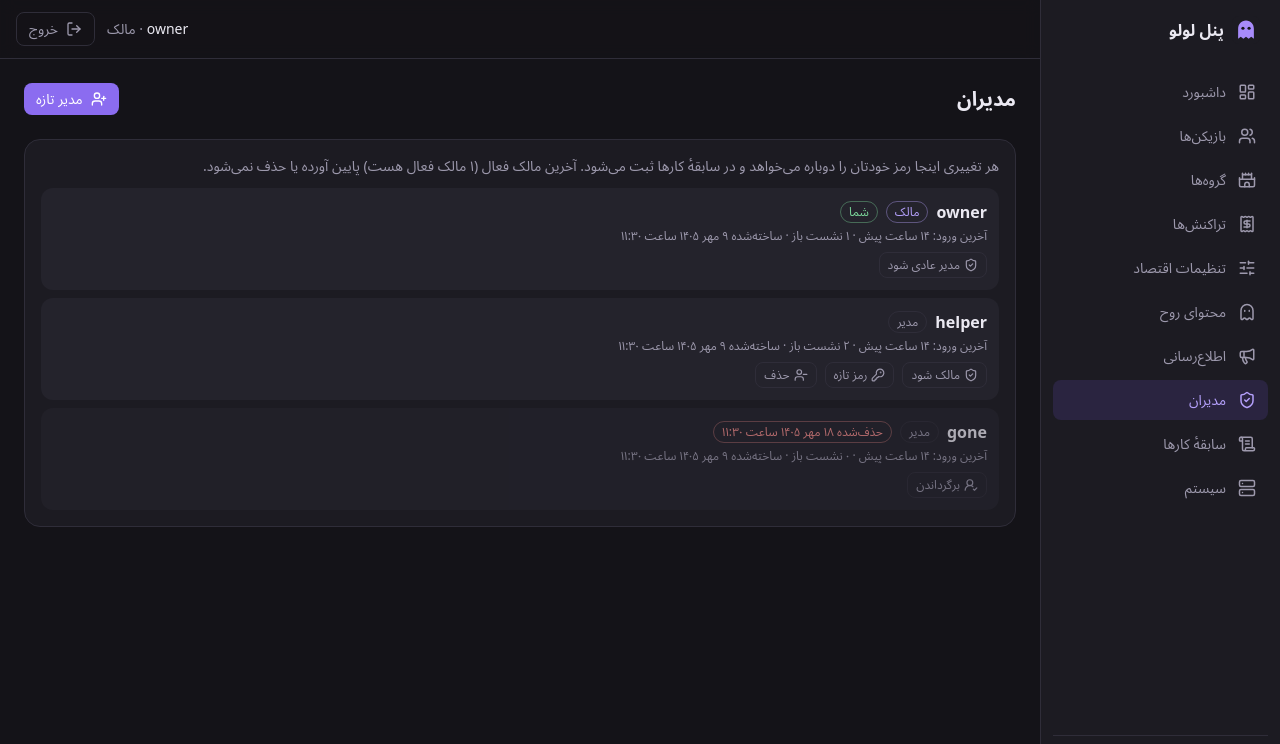
Test: admins page › adds an admin with a generated password
The image size is (1280, 744).
Click the button "مدیر تازه" at (71, 99), box [24,83,119,115]
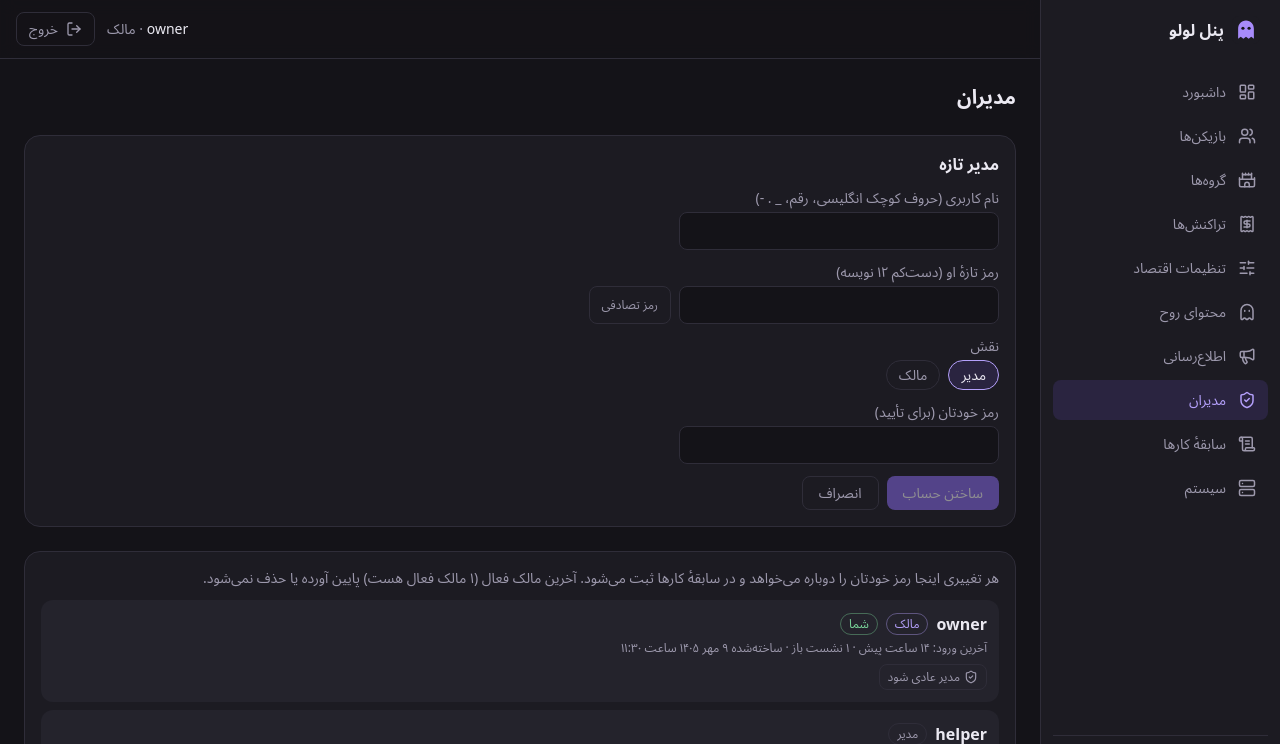
Type "Scribe" into the field labelled "نام کاربری (حروف کوچک انگلیسی، رقم، _ . -)" at (839, 231), box [679,212,999,250]
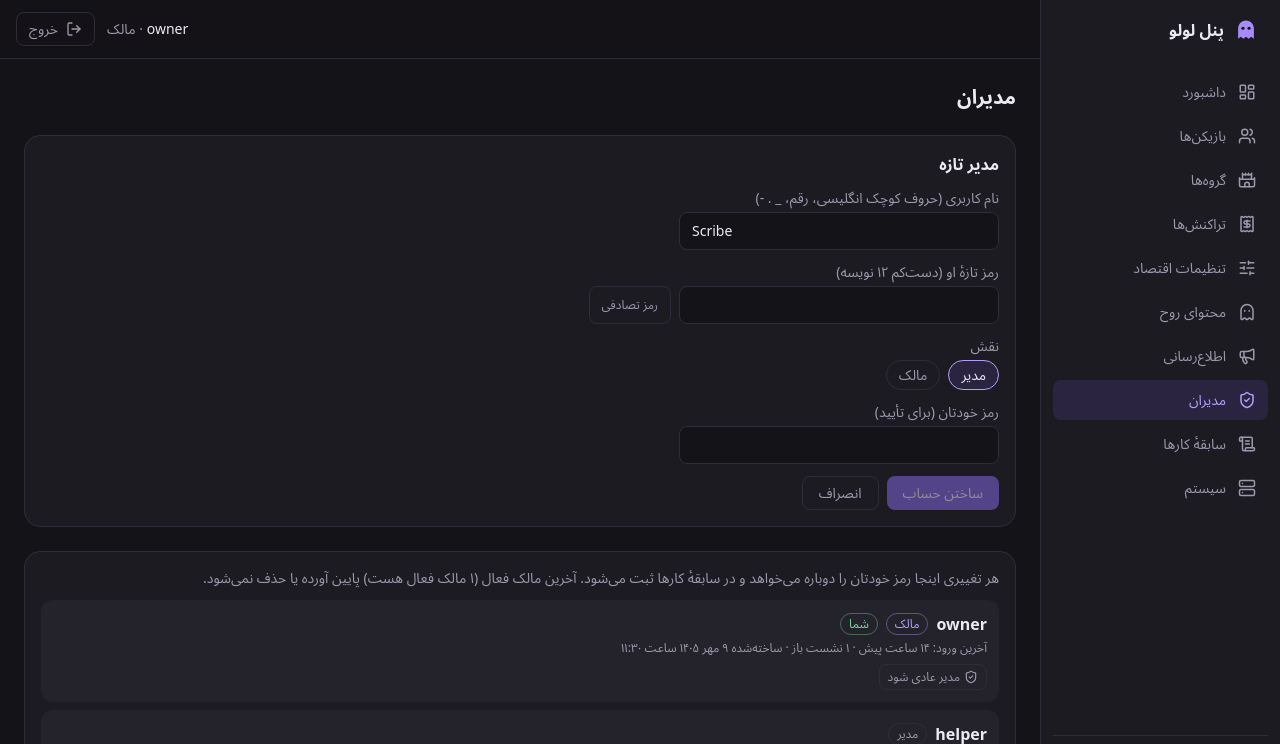
Click the button "رمز تصادفی" at (630, 305), box [588,286,671,324]
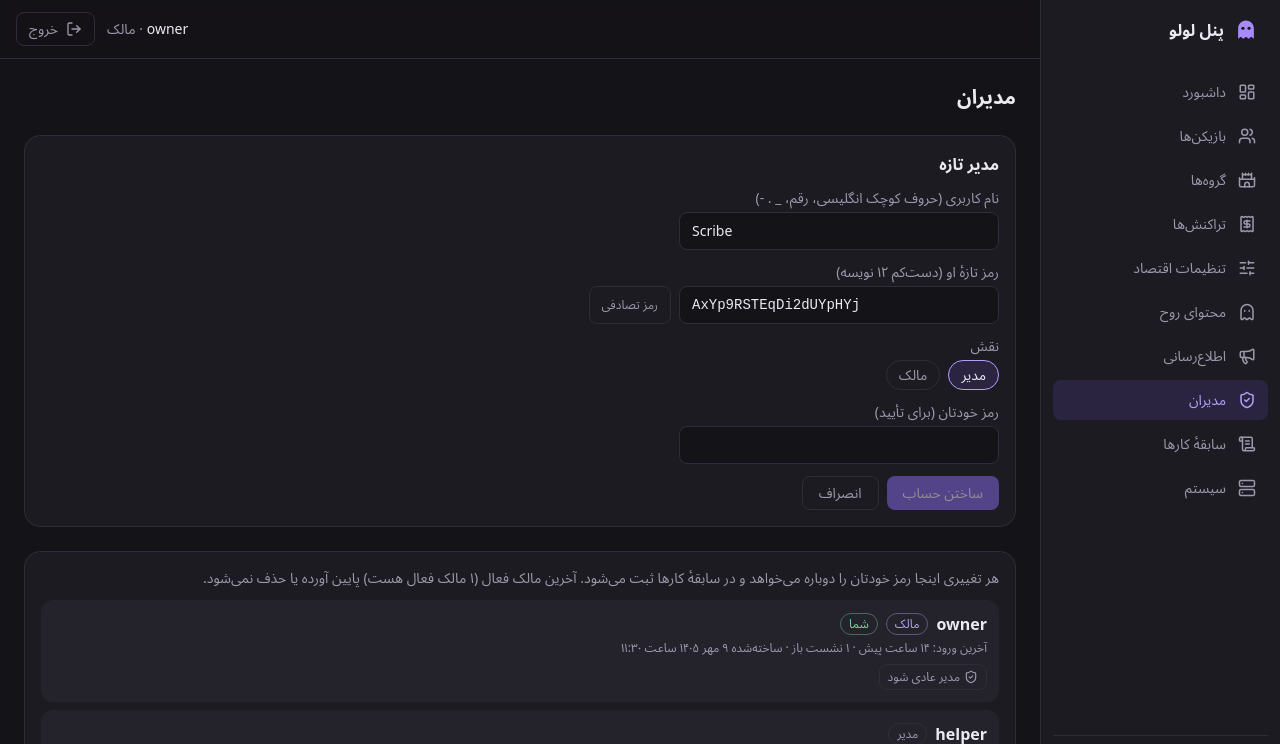
Click the radio button labelled "مالک" at (913, 375), box [886,360,940,390]
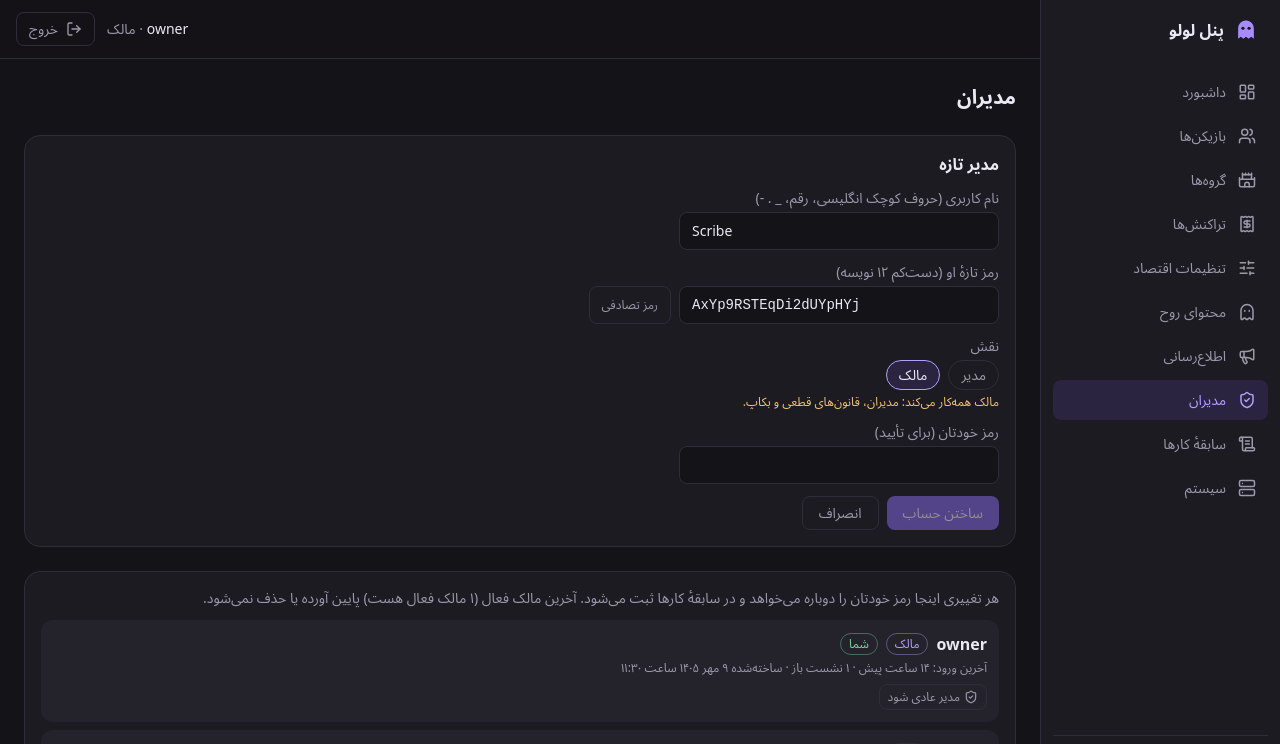
Result: the text "مالک همه‌کار می‌کند: مدیران، قانون‌های قطعی و بکاپ." is shown at [743,393,999,410]
Type "mine" into the password field labelled "رمز خودتان (برای تأیید)" at (839, 465), box [679,446,999,484]
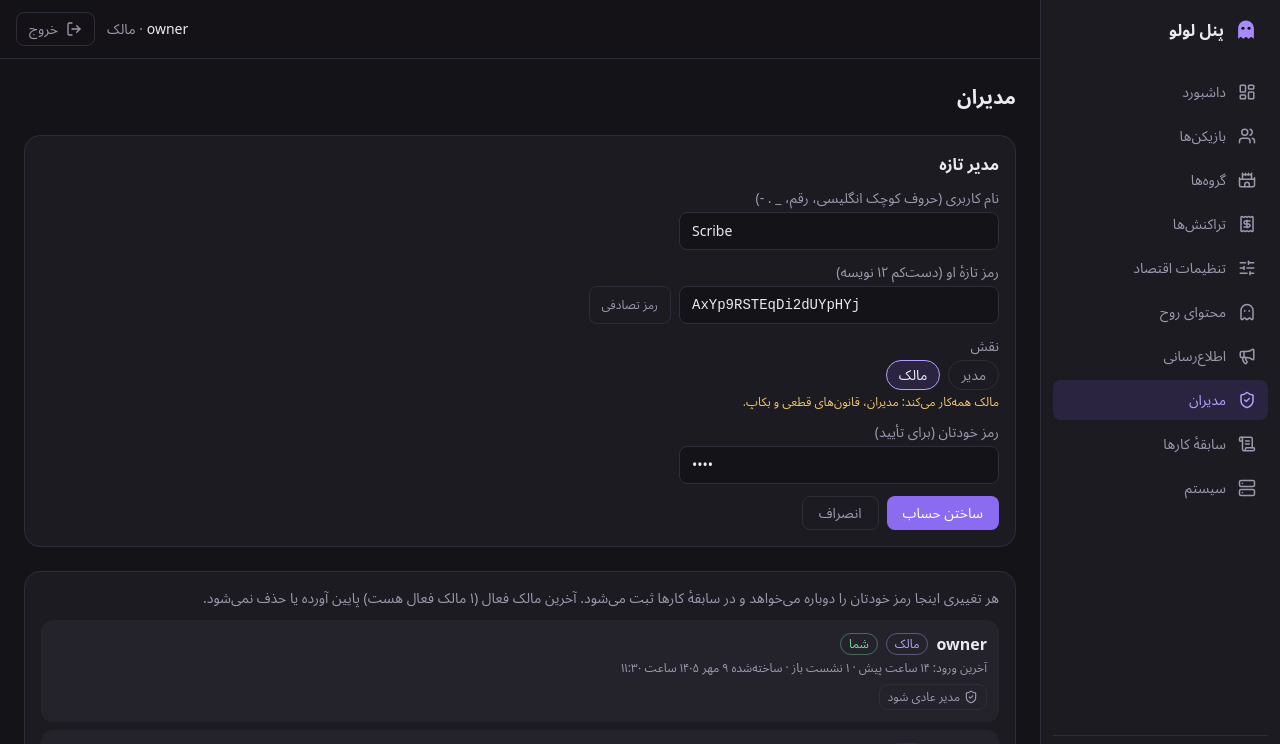
Click the button "ساختن حساب" at (943, 513), box [886,496,999,530]
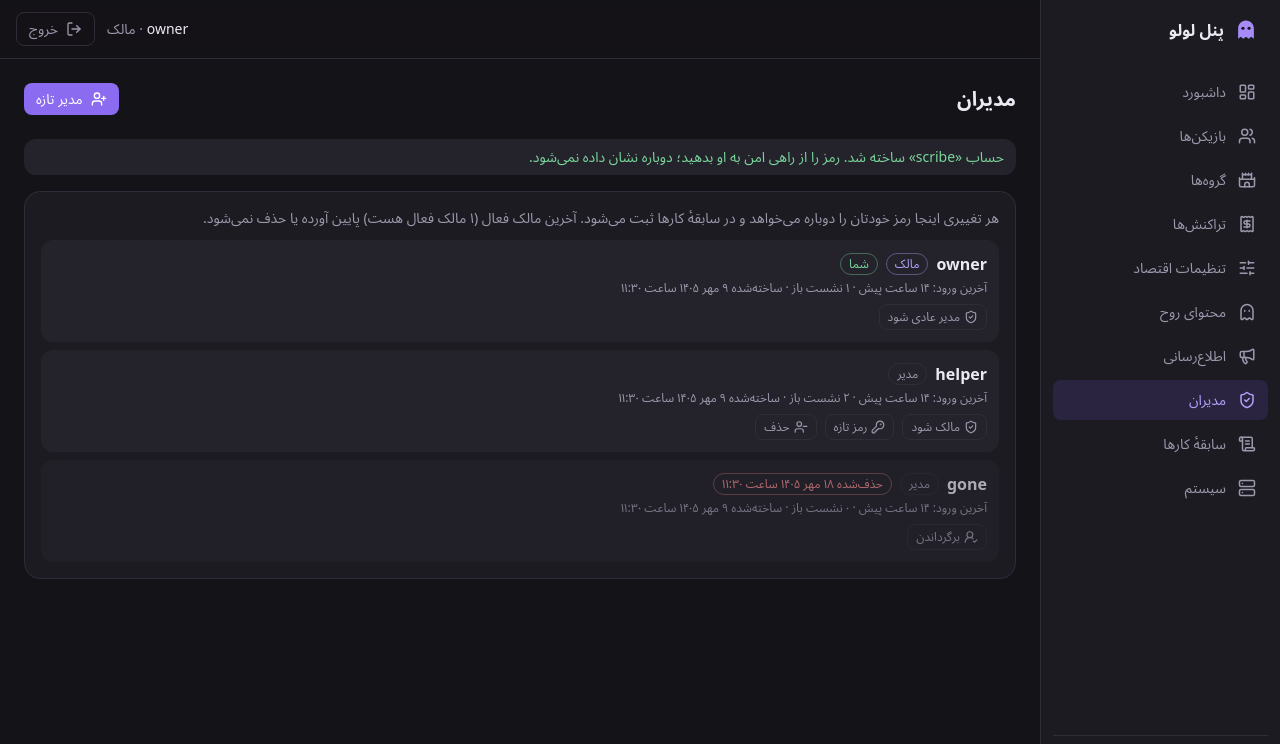
Result: the text "حساب «scribe» ساخته شد" is shown at [529,147,1004,166]
